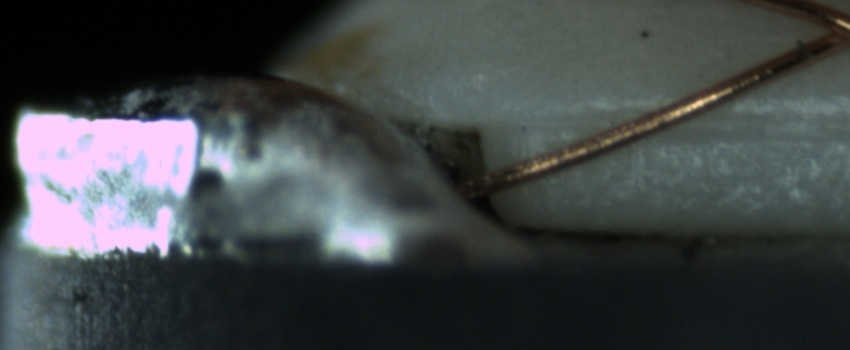CL: (796, 4, 850, 58)
DL: (526, 85, 845, 153)
